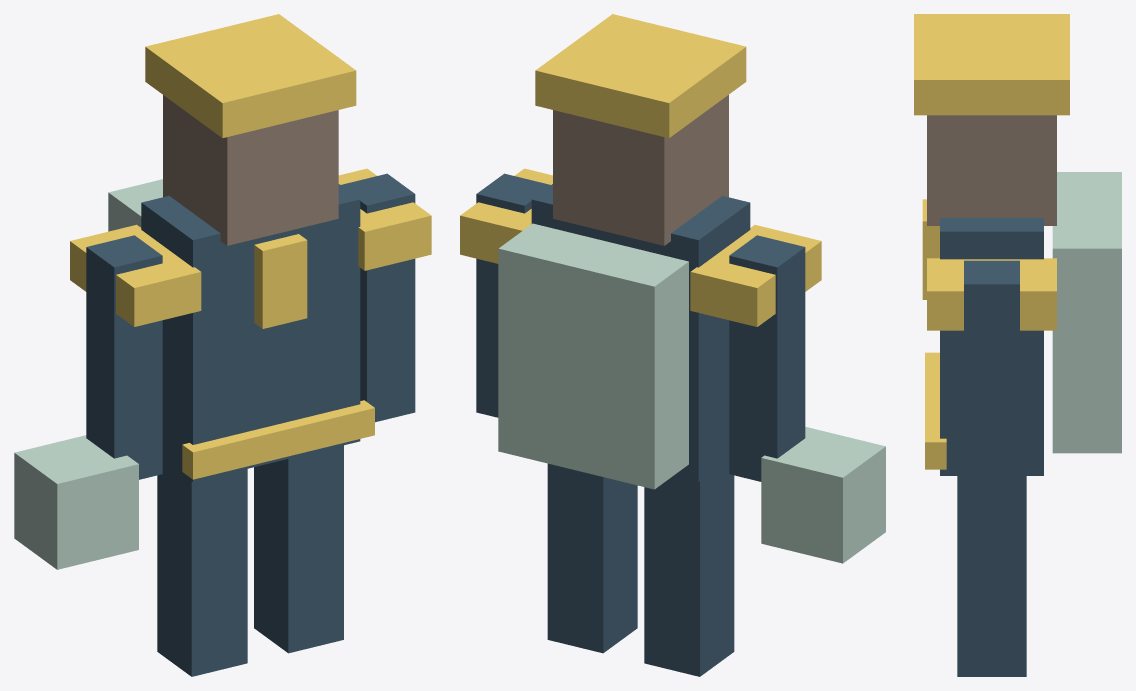
Rendered from 13_bryn_starfall_smith_near_loading.glb.
3 views of the same model, side by side, from view 1: azimuth 30°, elevation 25°; view 2: azimuth 150°, elevation 25°; view 3: azimuth 270°, elevation 25° (orthographic).
Visible parts, largest first — view 1: Bryn Starfall, Smith near Loading; view 2: Bryn Starfall, Smith near Loading; view 3: Bryn Starfall, Smith near Loading.
Boxes of the visible parts, x1=… form: Bryn Starfall, Smith near Loading: x1=14, y1=14, x2=431, y2=676; Bryn Starfall, Smith near Loading: x1=460, y1=14, x2=885, y2=676; Bryn Starfall, Smith near Loading: x1=914, y1=14, x2=1121, y2=676.
Bounding box in the file's own units: 0.9531 × 1.45 × 0.4598.
